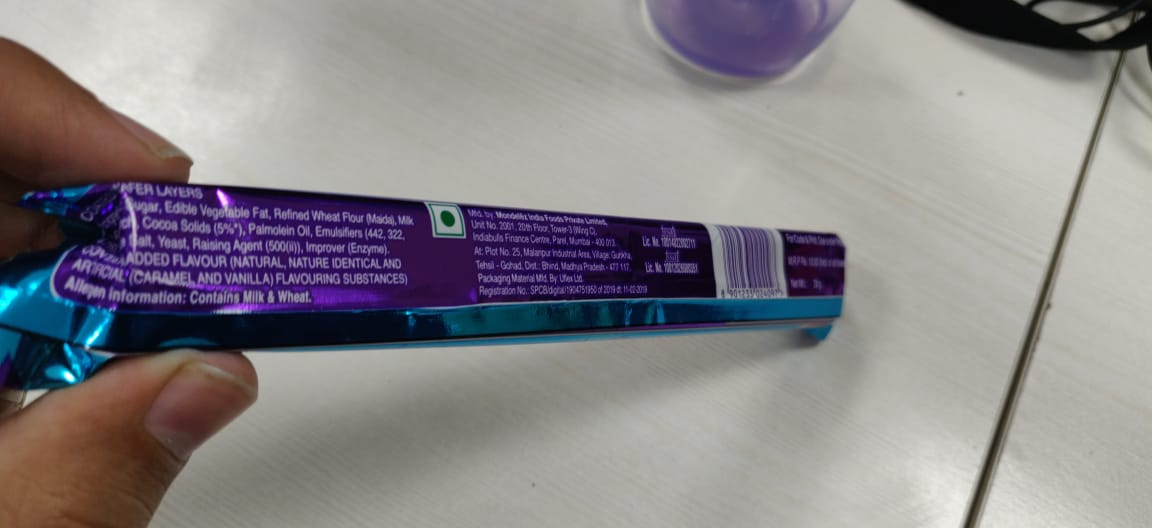perk: (1, 150, 867, 400)
